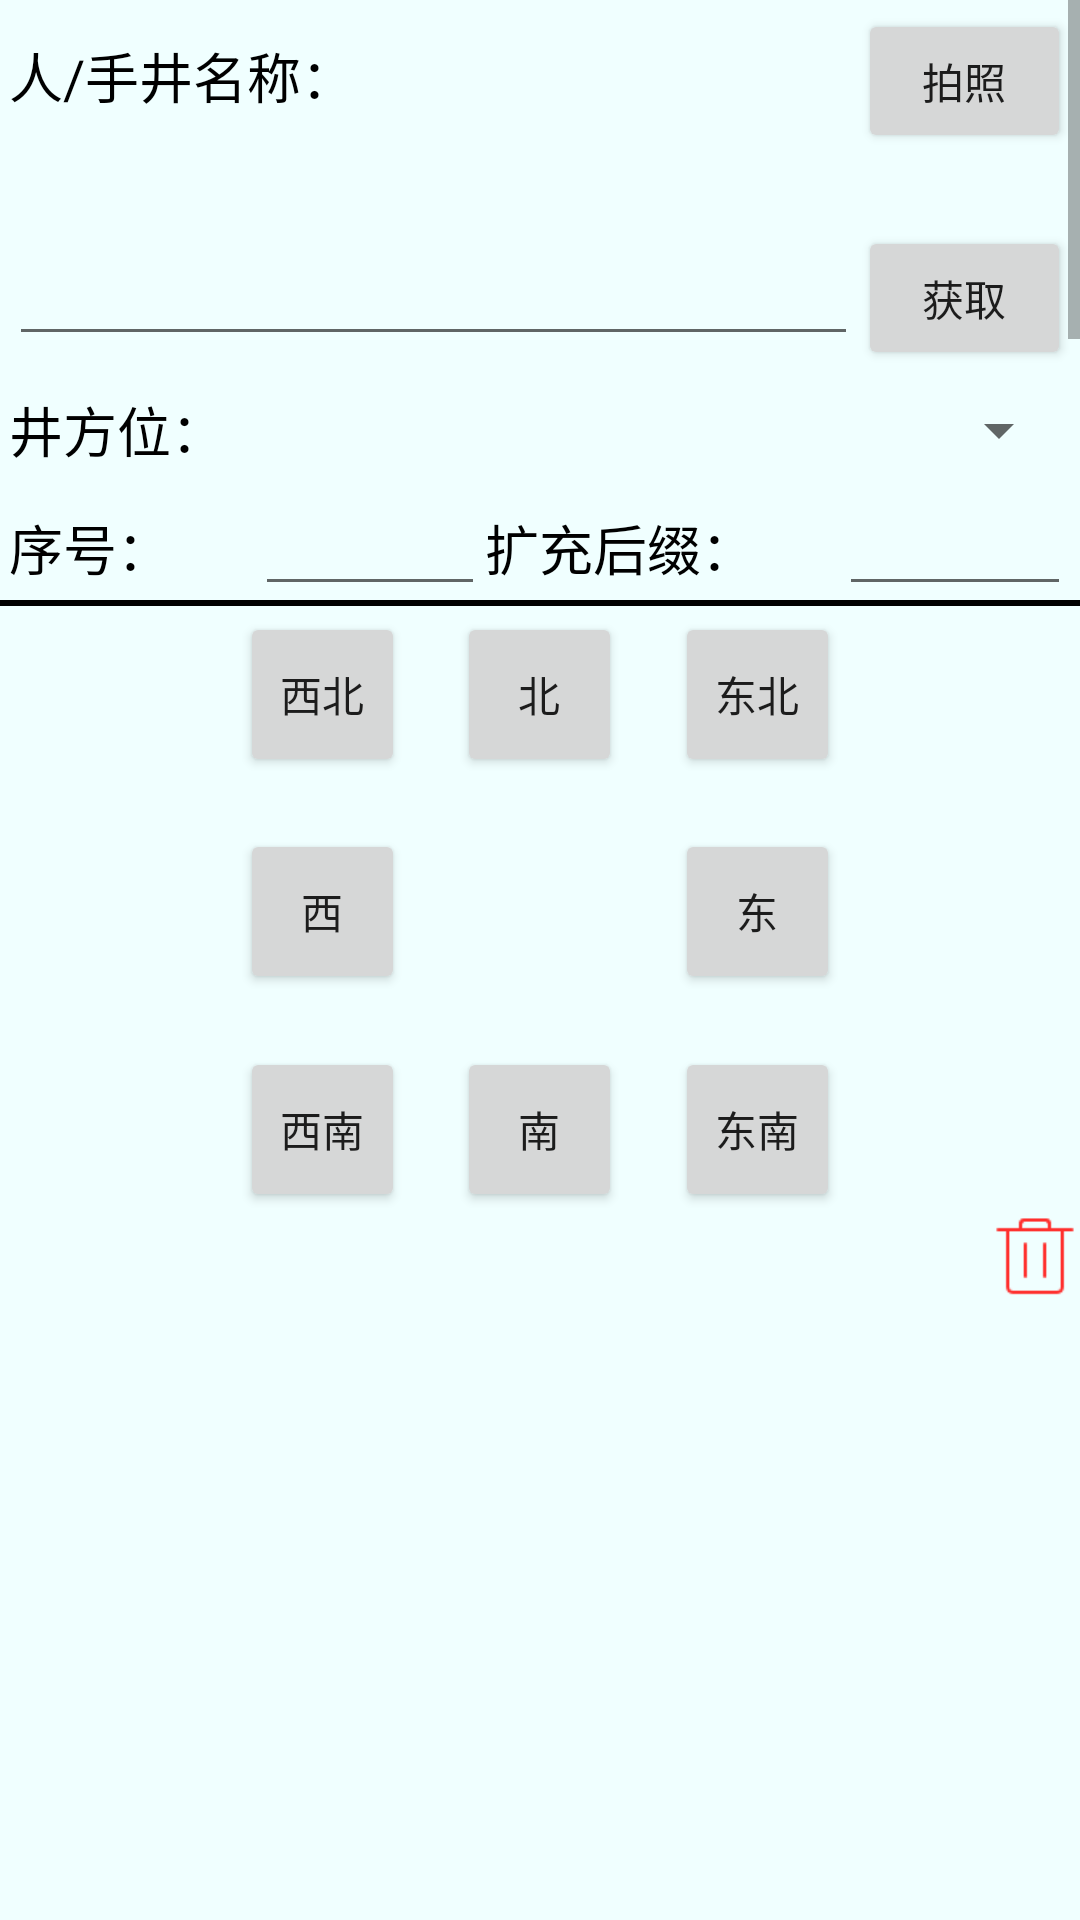

Locate icon controls on the screen. Image size 1080*1920, boxes as {"left": x1, "top": y1, "right": x2, "bottom": y2}.
delete: {"left": 996, "top": 1218, "right": 1074, "bottom": 1295}
